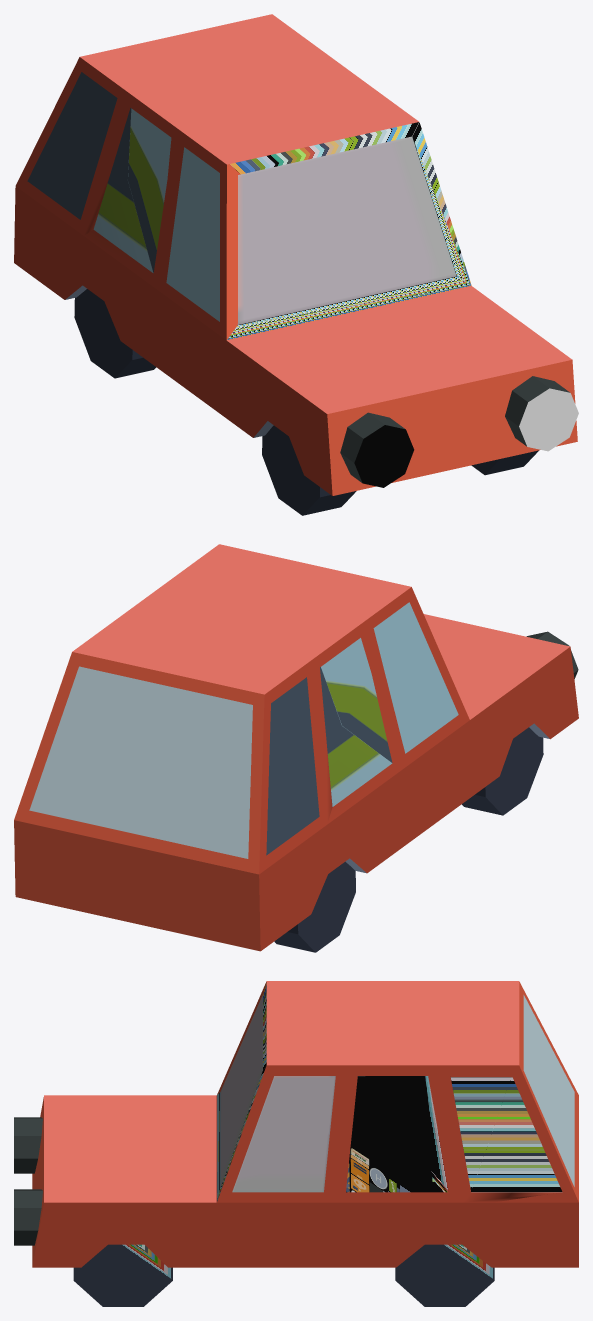
Rendered from Car.fbx.
3 renders of one model, top to bottom at view 1: azimuth 30°, elevation 25°; view 2: azimuth 150°, elevation 25°; view 3: azimuth 270°, elevation 25°, orthographic. The views are drawn at different scales.
Parts seen in each view (by area): view 1: Car_blue1; view 2: Car_blue1; view 3: Car_blue1.
Boxes of the visible parts, x1,y1,x2,y2 form: Car_blue1: (14, 14, 578, 515); Car_blue1: (14, 544, 578, 952); Car_blue1: (14, 981, 578, 1306).
Size of the model in its own units: 2.01 by 2.19 by 4.65.
